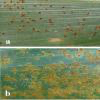Corn rust leaf: (1, 48, 99, 99), (0, 1, 100, 46)
